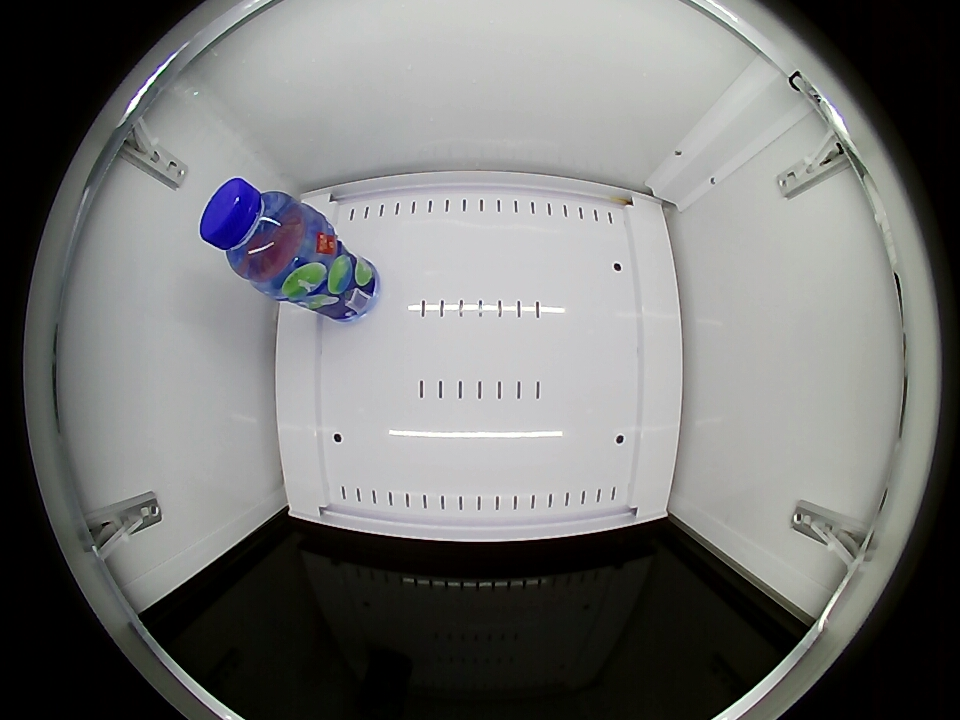maidong: (199, 178, 313, 288)
